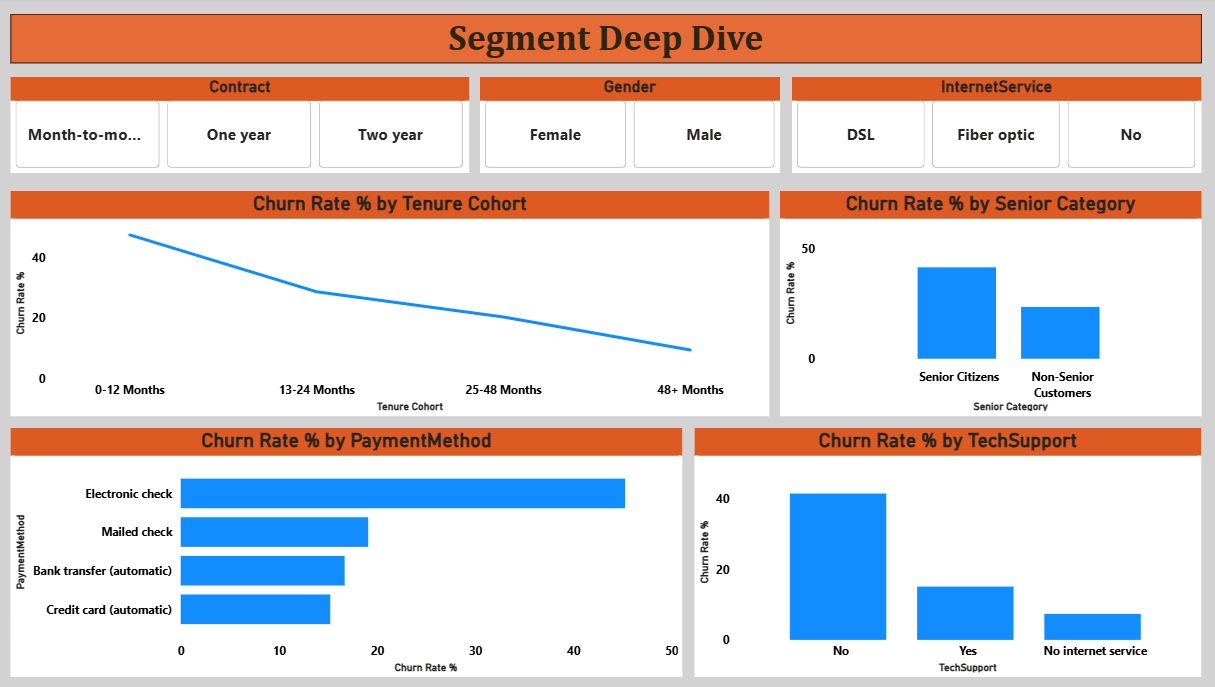

Layout of this report page (visuals, bound fields, positions):
{"tool":"powerbi","page":{"name":"Segment Deep Dive","canvas":[1280,720],"ordinal":1},"visuals":[{"type":"lineChart","fields":{"Category":["telco_cleaned.Tenure Cohort"],"Y":["telco_cleaned.Churn Rate %"]},"box":[20.3,203.2,790.9,234.4],"z":0},{"type":"clusteredColumnChart","fields":{"Category":["telco_cleaned.Senior Category"],"Y":["telco_cleaned.Churn Rate %"]},"box":[822.1,203.2,439.2,234.4],"z":1000},{"type":"clusteredBarChart","fields":{"Category":["telco_cleaned.PaymentMethod"],"Y":["telco_cleaned.Churn Rate %"]},"box":[20.3,450.1,700.2,259.5],"z":2000},{"type":"clusteredColumnChart","fields":{"Category":["telco_cleaned.TechSupport"],"Y":["telco_cleaned.Churn Rate %"]},"box":[733,450.1,528.3,259.5],"z":3000},{"type":"advancedSlicerVisual","fields":{"Values":["telco_cleaned.Contract"]},"box":[20.3,84.4,478.3,100],"z":4000},{"type":"advancedSlicerVisual","title":"Gender","fields":{"Values":["telco_cleaned.gender"]},"box":[509.5,84.4,312.6,100],"z":5000},{"type":"advancedSlicerVisual","fields":{"Values":["telco_cleaned.InternetService"]},"box":[834.6,84.4,426.7,100],"z":6000},{"type":"textbox","box":[20.3,18.8,1241,51.6],"z":7000}]}

Visuals, with their boxes in screenshot pixels (x1, y1, x2, y2), scaled from the page's 1280x720 canvas onto the 1215x687 screenshot:
lineChart - telco_cleaned.Tenure Cohort x telco_cleaned.Churn Rate %: 19 194 770 418
clusteredColumnChart - telco_cleaned.Senior Category x telco_cleaned.Churn Rate %: 780 194 1197 418
clusteredBarChart - telco_cleaned.PaymentMethod x telco_cleaned.Churn Rate %: 19 429 684 677
clusteredColumnChart - telco_cleaned.TechSupport x telco_cleaned.Churn Rate %: 696 429 1197 677
advancedSlicerVisual - telco_cleaned.Contract: 19 81 473 176
"Gender" advancedSlicerVisual: 484 81 780 176
advancedSlicerVisual - telco_cleaned.InternetService: 792 81 1197 176
textbox: 19 18 1197 67
